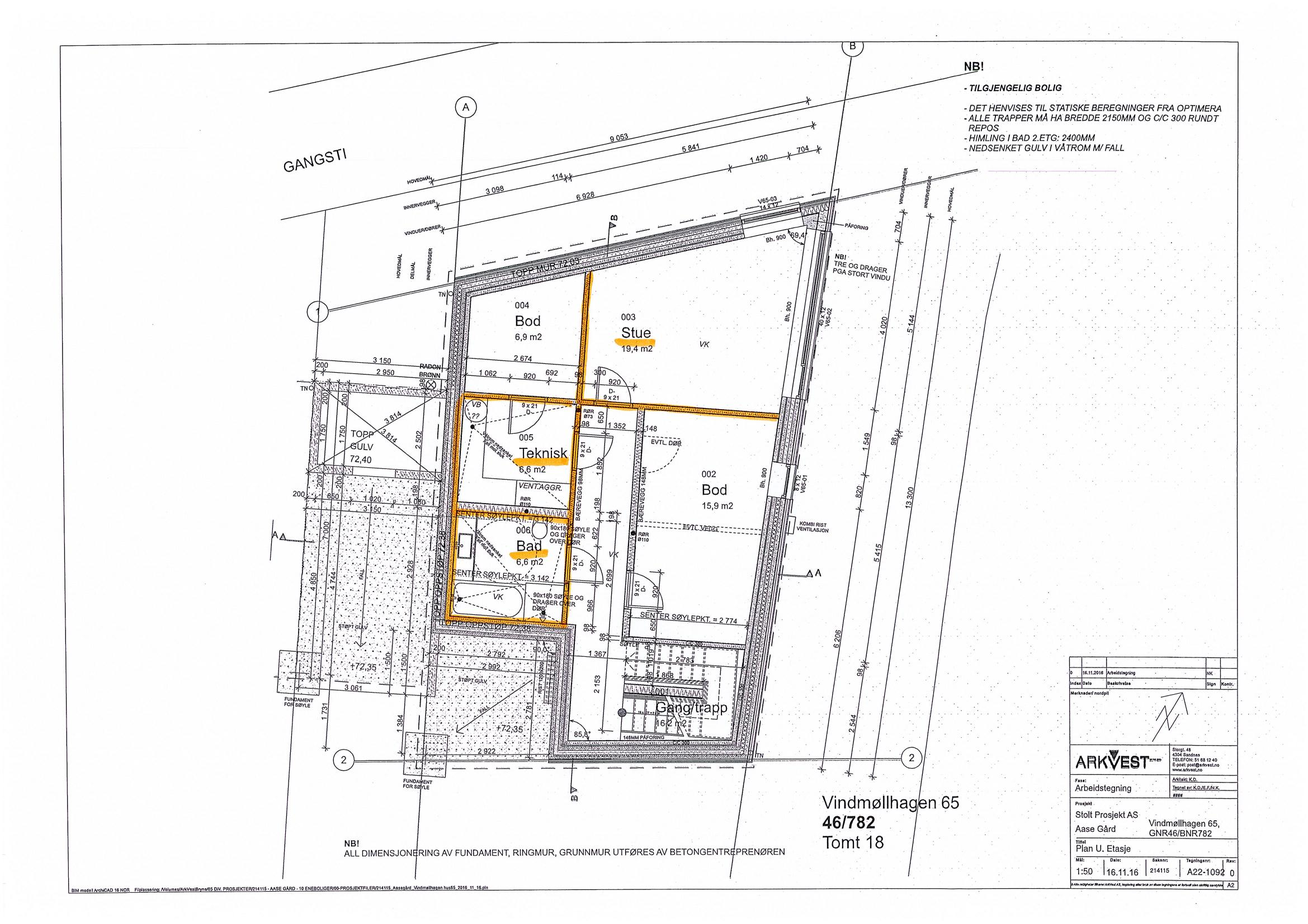plantegning: (275, 187, 845, 784)
